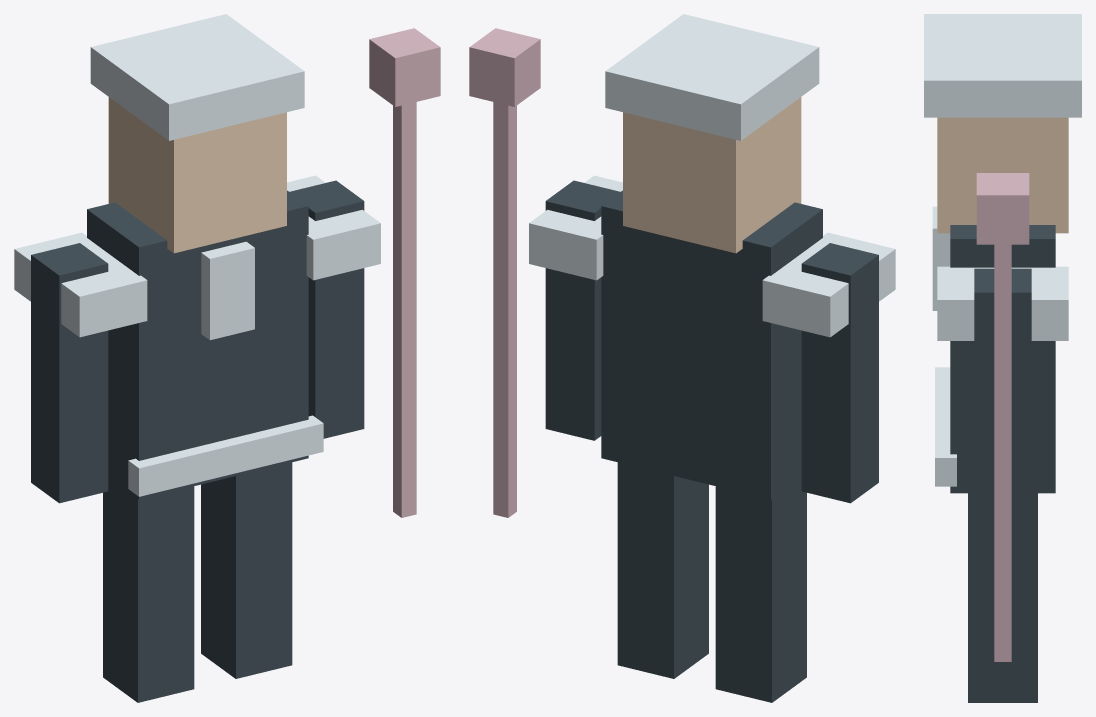
The model's file is 15_brant_dubwater_cartographer_from_entry.glb.
3 views of the same model, side by side, from view 1: azimuth 30°, elevation 25°; view 2: azimuth 150°, elevation 25°; view 3: azimuth 270°, elevation 25° (orthographic).
Parts seen in each view (by area): view 1: Brant Dubwater, Cartographer from Entry; view 2: Brant Dubwater, Cartographer from Entry; view 3: Brant Dubwater, Cartographer from Entry.
Boxes of the visible parts, x1,y1,x2,y2 form: Brant Dubwater, Cartographer from Entry: (14, 14, 440, 702); Brant Dubwater, Cartographer from Entry: (469, 14, 895, 702); Brant Dubwater, Cartographer from Entry: (924, 14, 1081, 702).
Size of the model in its own units: 1.1 by 1.69 by 0.3919.
